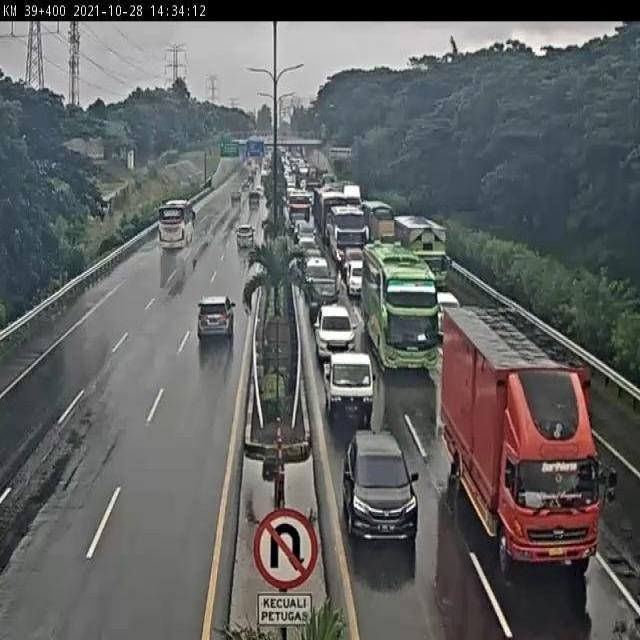bus-l-: (364, 249, 442, 368), (330, 204, 366, 261), (158, 201, 197, 251)
car: (343, 431, 420, 538), (322, 340, 365, 392), (315, 303, 354, 341), (303, 253, 336, 288), (344, 258, 369, 294), (234, 222, 257, 255), (297, 234, 317, 258)
truck-l-: (444, 309, 596, 563), (392, 216, 453, 292)
